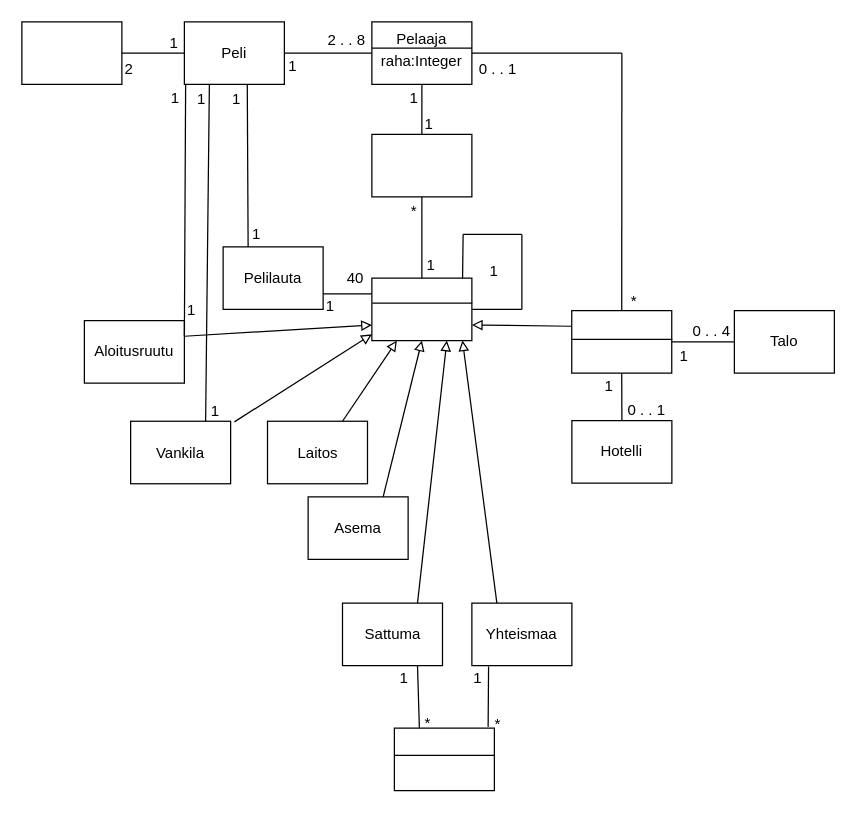
The diagram is 856 pixels wide and 813 high, and some of its shapes have lost their labels. The centre of each missing label's shape, as x and y in pixels:
"Katu nimi:String" goes at [621,341].
"Kortti toiminto()" goes at [443,759].
"Noppa" goes at [71,52].
"Pelinappula" goes at [421,165].
"Ruutu toiminto()" goes at [421,309].
